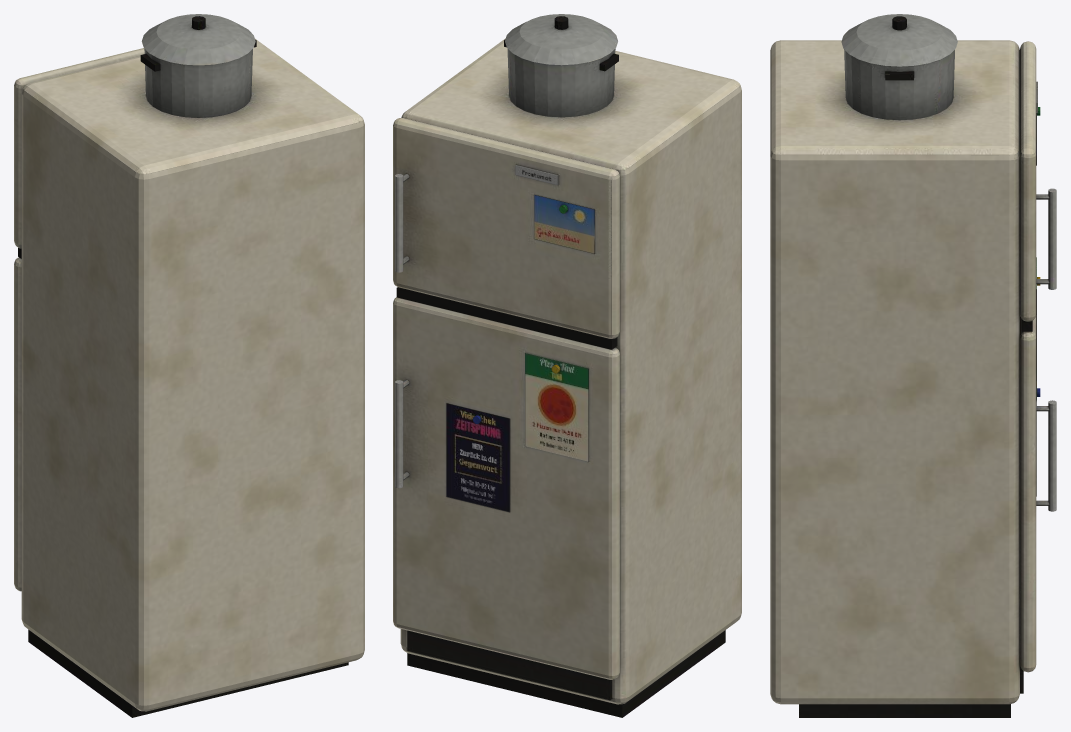
Rendered from kue_kuehl.glb.
3 renders of one model, left to right at view 1: azimuth 30°, elevation 25°; view 2: azimuth 150°, elevation 25°; view 3: azimuth 270°, elevation 25°, orthographic. The views are drawn at different scales.
Parts seen in each view (by area): view 1: kue_kuehl; view 2: kue_kuehl; view 3: kue_kuehl.
Part boxes in pixels (bbox=[...]): kue_kuehl: bbox=[14, 14, 364, 717]; kue_kuehl: bbox=[393, 14, 741, 717]; kue_kuehl: bbox=[770, 14, 1056, 717].
Bounding box in the file's own units: 0.75 × 1.99 × 0.797.
1 material, 1 textured.
